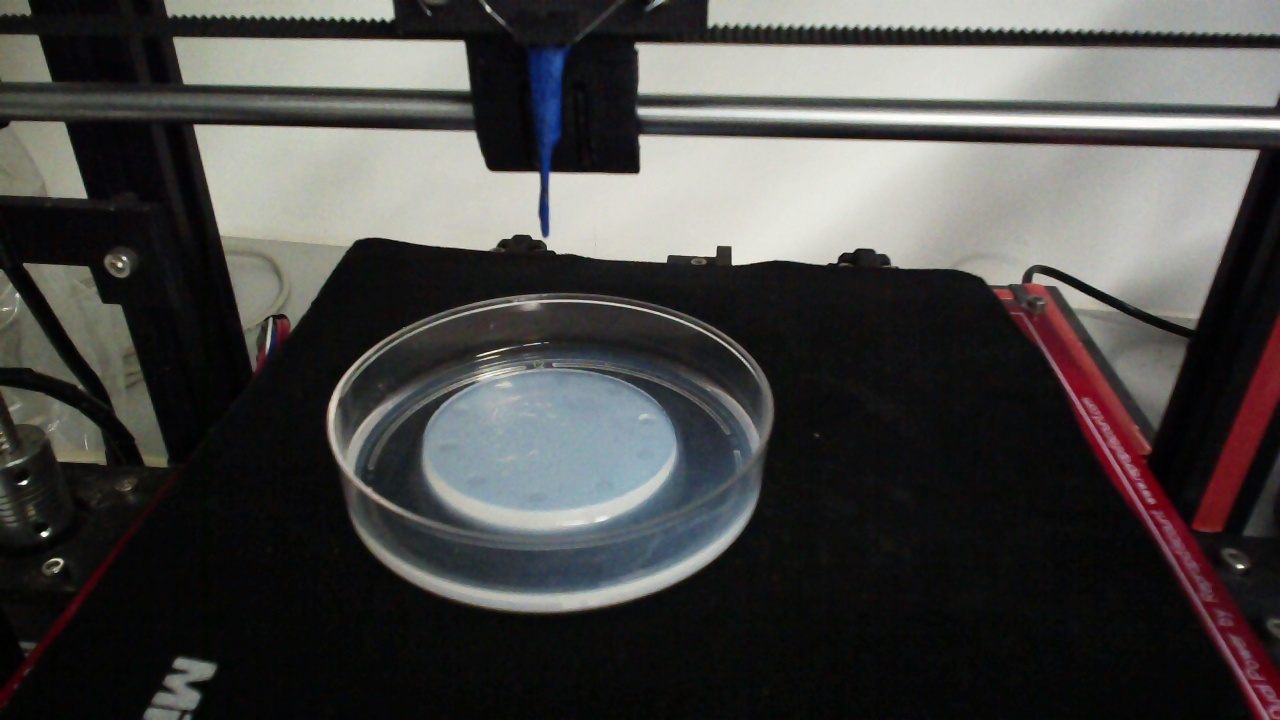groove: (633, 447, 659, 462), (449, 400, 471, 416), (594, 479, 617, 494), (465, 472, 487, 487), (524, 490, 546, 505), (636, 412, 658, 427), (437, 439, 457, 454), (605, 384, 626, 398), (494, 379, 514, 393), (552, 373, 571, 387)
needle: (529, 49, 565, 239)
